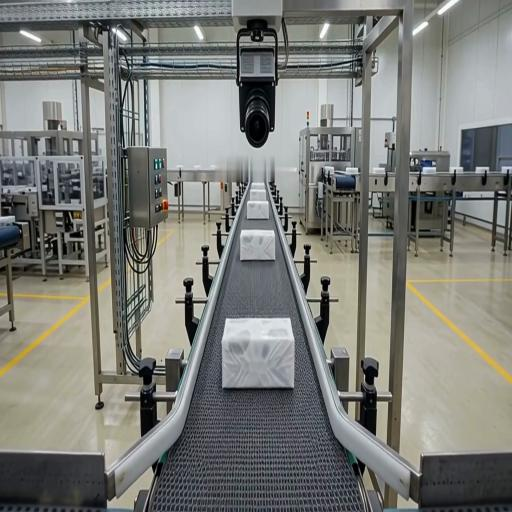good: (222, 319, 294, 388), (240, 230, 275, 260), (247, 201, 268, 219), (250, 189, 266, 201), (252, 183, 265, 190)
